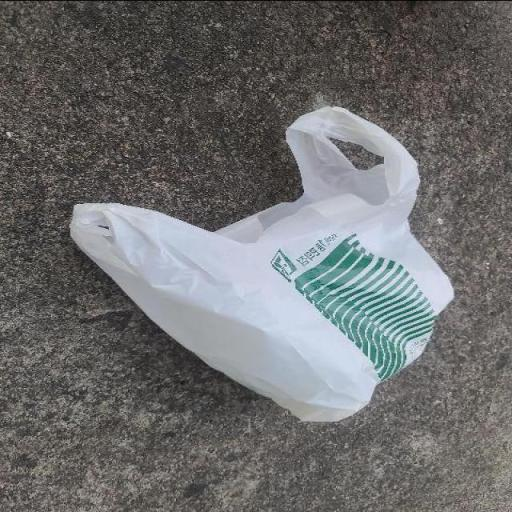plastic-bag: (66, 104, 456, 422)
